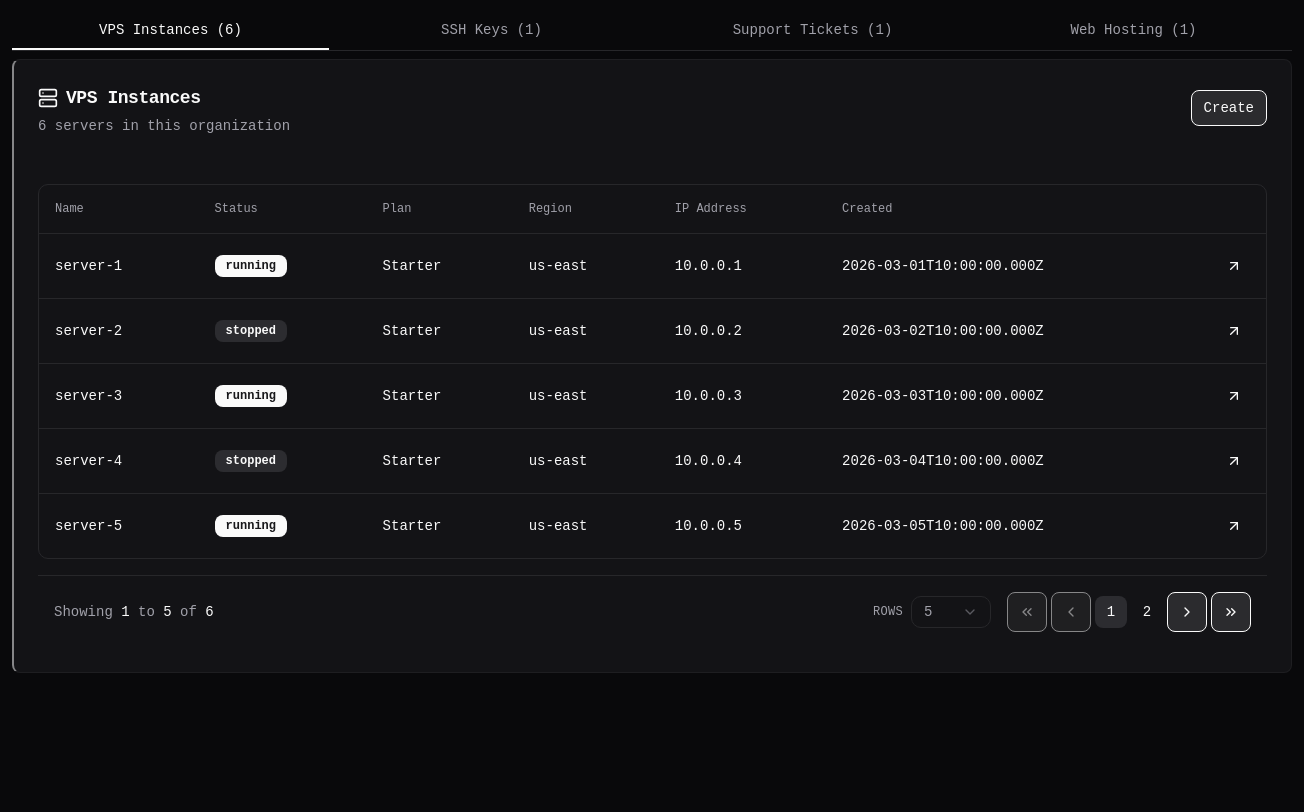
OrganizationResourceTables › renders paginated VPS rows in a table
Expected: the text "server-1" is shown, [39,233,199,298]
Expected: the text "server-6" is not shown
Click the button "2": [1147, 612] box [1131,596,1163,628]
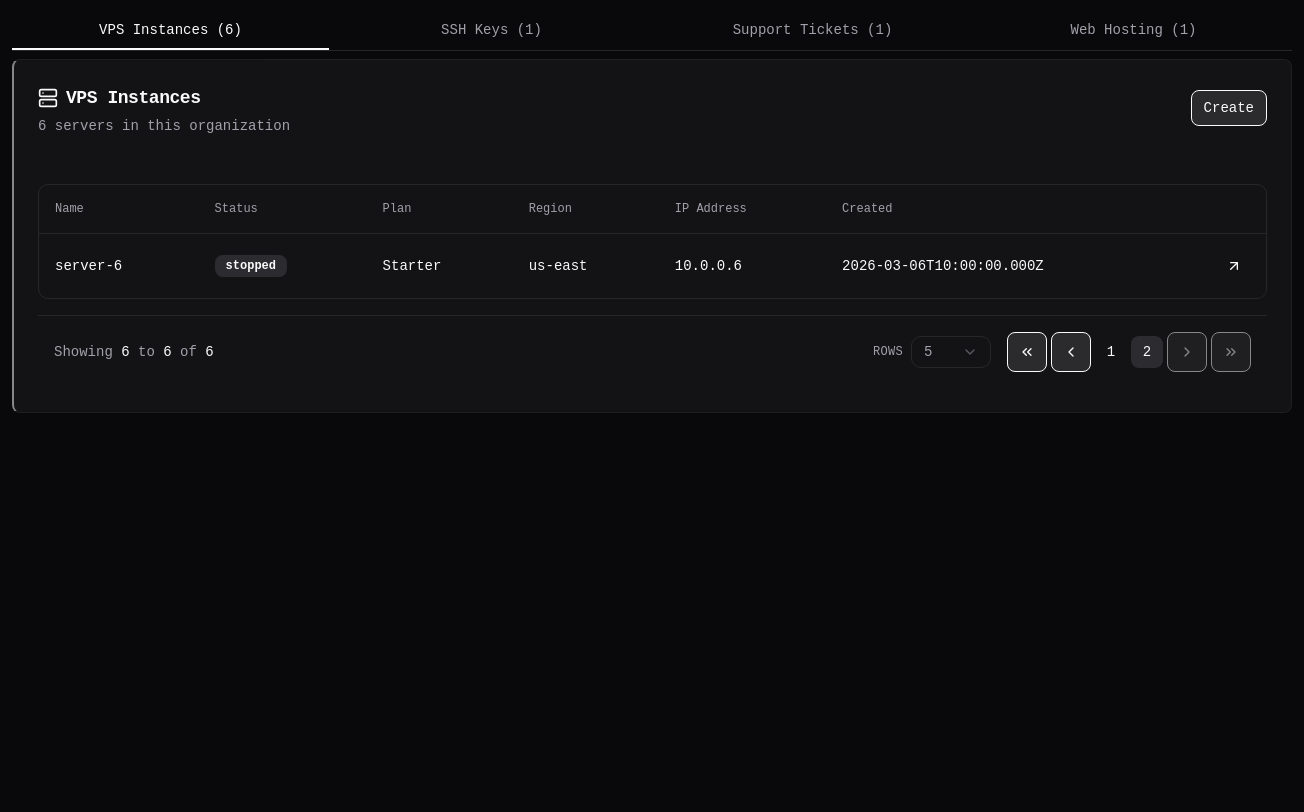
Expected: the text "server-6" is shown, [39,233,199,298]
Expected: the button "server-1" is gone
